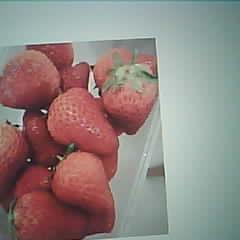straw-ripe: (49, 89, 118, 153), (52, 154, 114, 210), (103, 71, 157, 133), (14, 193, 84, 240)
